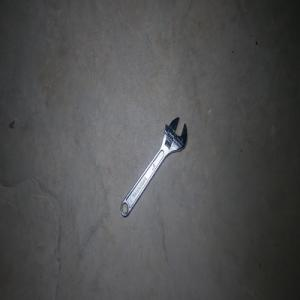Wrench: (120, 117, 187, 217)
